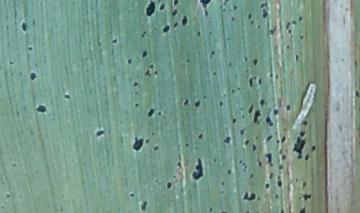tarspot: (291, 136, 305, 161), (191, 156, 204, 182), (141, 1, 158, 20), (129, 133, 145, 153), (239, 189, 257, 203), (34, 102, 50, 115), (252, 108, 262, 128), (139, 45, 150, 63), (27, 69, 40, 84), (222, 133, 234, 148), (263, 151, 275, 166), (146, 104, 156, 121), (139, 198, 150, 213), (180, 12, 189, 30), (198, 1, 216, 10), (94, 126, 107, 138), (264, 116, 276, 129), (161, 23, 172, 37), (246, 73, 255, 90), (18, 19, 28, 34), (164, 178, 174, 193), (180, 95, 190, 109), (193, 96, 202, 111), (272, 105, 282, 118), (216, 98, 227, 109), (61, 91, 73, 101), (157, 1, 167, 13), (195, 130, 204, 143), (110, 35, 119, 48), (281, 133, 289, 147), (152, 143, 162, 154), (124, 55, 134, 66), (229, 115, 239, 126), (127, 191, 138, 201), (255, 76, 266, 86), (300, 117, 309, 129), (283, 102, 292, 114), (231, 1, 240, 13), (296, 206, 311, 213), (310, 142, 318, 155), (302, 192, 313, 201), (240, 138, 251, 147), (249, 143, 258, 154), (132, 100, 141, 111), (173, 161, 184, 170), (248, 101, 255, 115), (132, 78, 140, 90), (258, 95, 265, 108), (171, 20, 180, 30), (264, 133, 273, 143), (225, 166, 233, 177), (246, 12, 254, 22), (251, 56, 258, 67), (239, 126, 246, 137), (276, 179, 284, 188), (263, 182, 272, 190), (304, 152, 311, 161), (172, 1, 180, 8)
